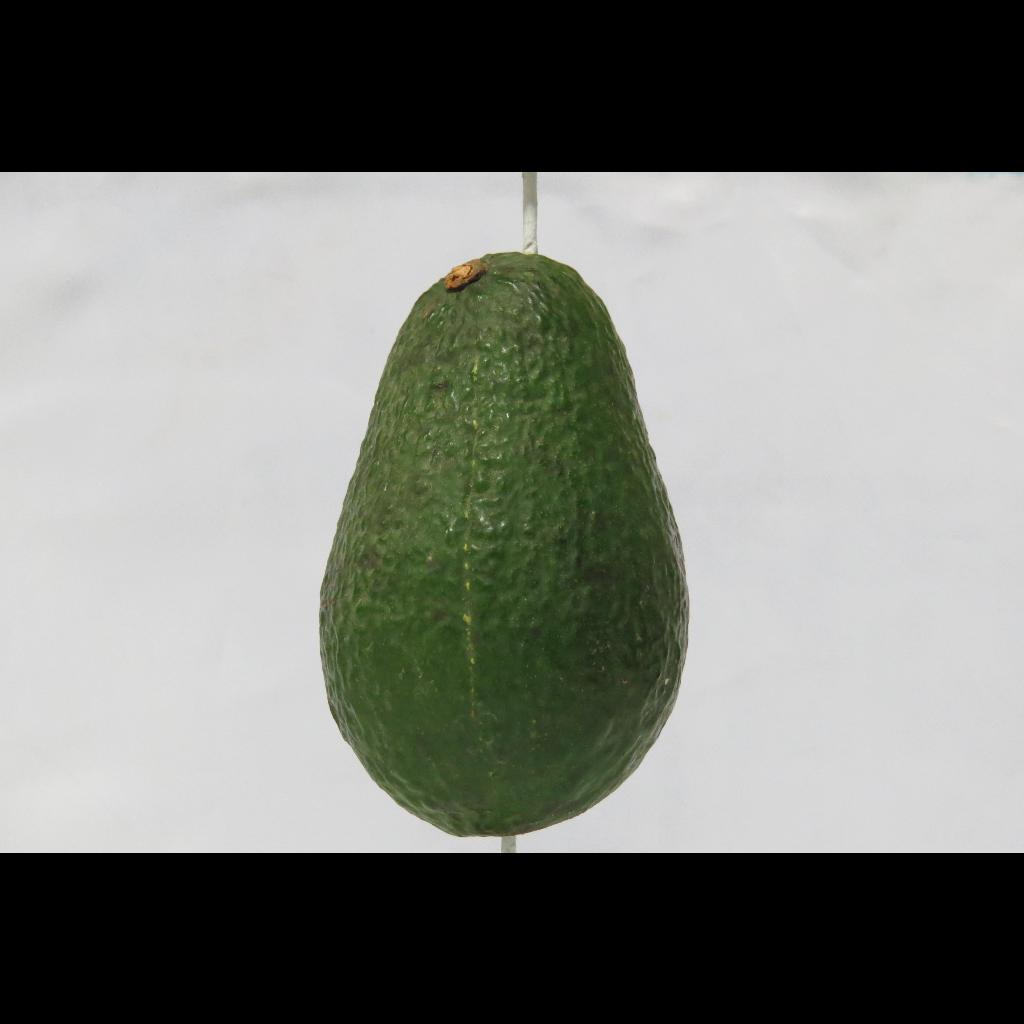Healthy: (299, 219, 699, 851)
